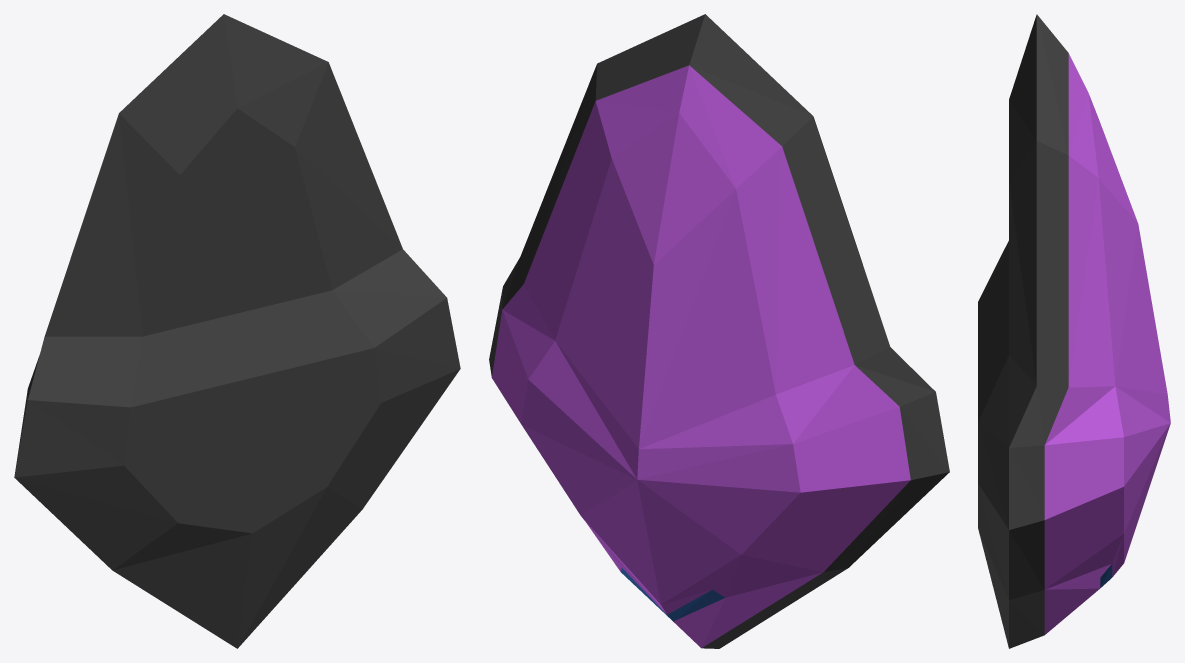
The model's file is bodyPik.FBX.
3 views of the same model, side by side, from view 1: azimuth 30°, elevation 25°; view 2: azimuth 150°, elevation 25°; view 3: azimuth 270°, elevation 25° (orthographic). The views are drawn at different scales.
Parts seen in each view (by area): view 1: VIFS002; view 2: VIFS001, VIFS002, VIFS003; view 3: VIFS001, VIFS002.
Boxes of the visible parts, left/top/right/bottom form: VIFS002: left=14, top=14, right=460, bottom=648; VIFS001: left=492, top=65, right=910, bottom=648; VIFS002: left=489, top=14, right=949, bottom=648; VIFS003: left=621, top=568, right=724, bottom=621; VIFS001: left=1044, top=53, right=1170, bottom=634; VIFS002: left=978, top=14, right=1068, bottom=648.
Size of the model in its own units: 0.66 by 0.883 by 0.243.
